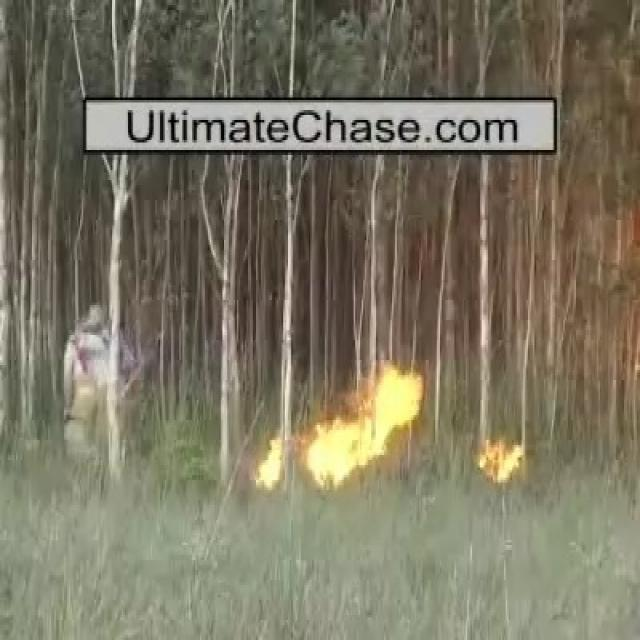fire: (254, 366, 425, 492), (477, 432, 522, 486)
